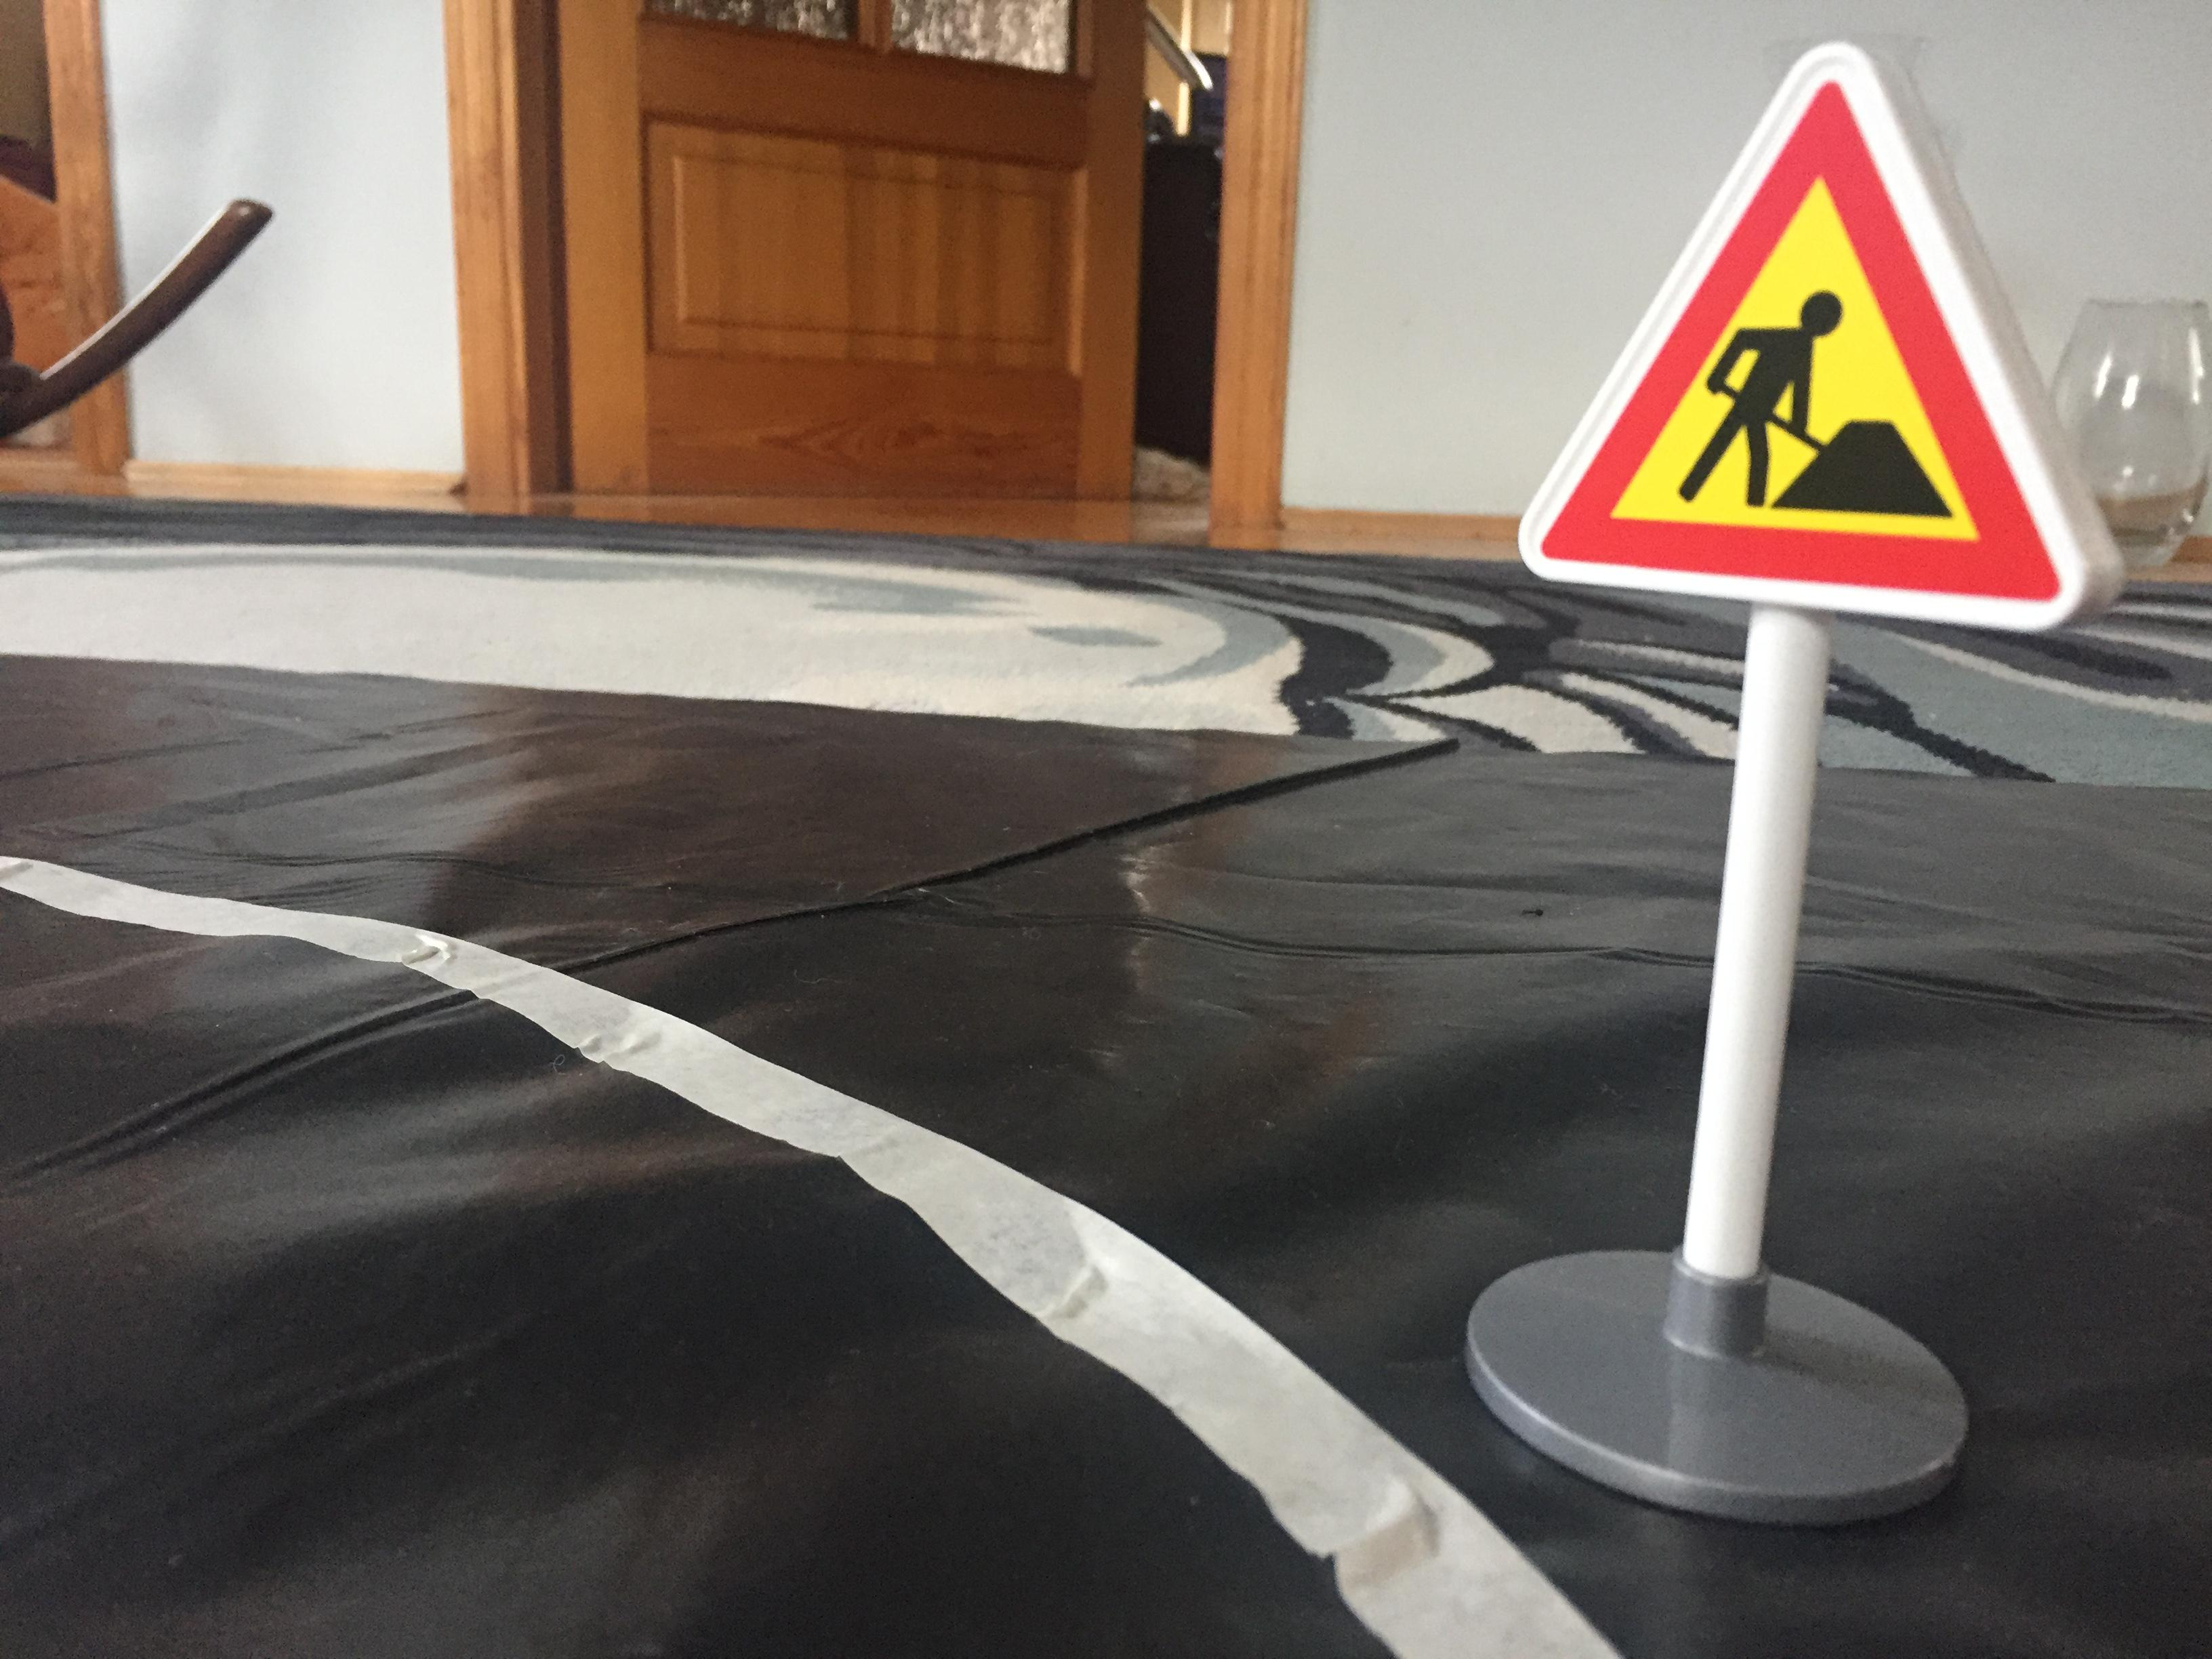work: (1491, 21, 2132, 653)
